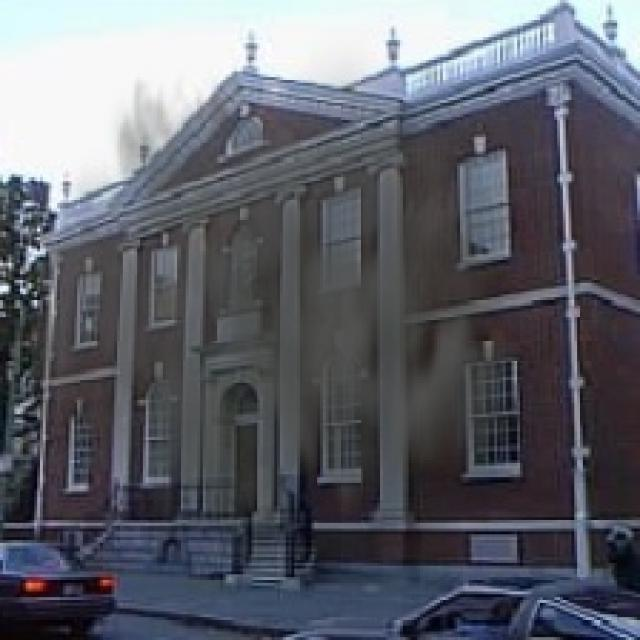Smoke: (32, 28, 554, 560)
